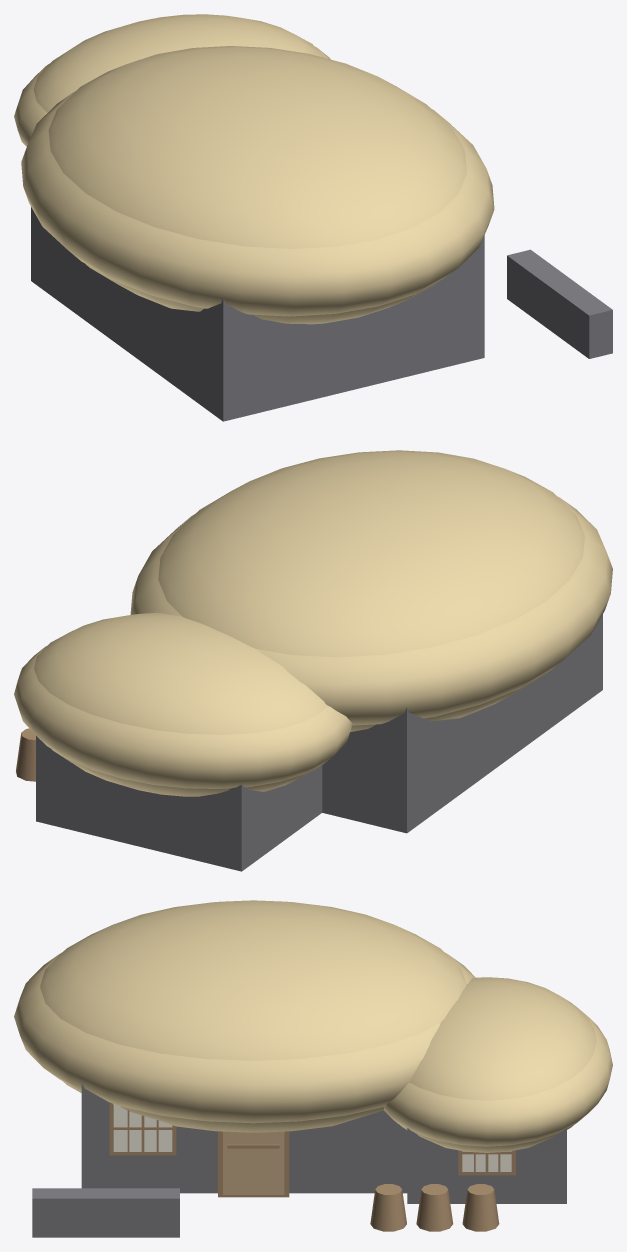
Rendered from JHouse_Thatch_B.fbx.
3 renders of one model, top to bottom at view 1: azimuth 30°, elevation 25°; view 2: azimuth 150°, elevation 25°; view 3: azimuth 270°, elevation 25°, orthographic. The views are drawn at different scales.
Visible parts, largest first — view 1: JHouse_Thatch_B; view 2: JHouse_Thatch_B; view 3: JHouse_Thatch_B.
Part boxes in pixels (bbox=[...]): JHouse_Thatch_B: bbox=[14, 14, 612, 421]; JHouse_Thatch_B: bbox=[14, 450, 612, 871]; JHouse_Thatch_B: bbox=[14, 900, 612, 1237].
Bounding box in the file's own units: 7.2 × 3.7 × 9.75.
